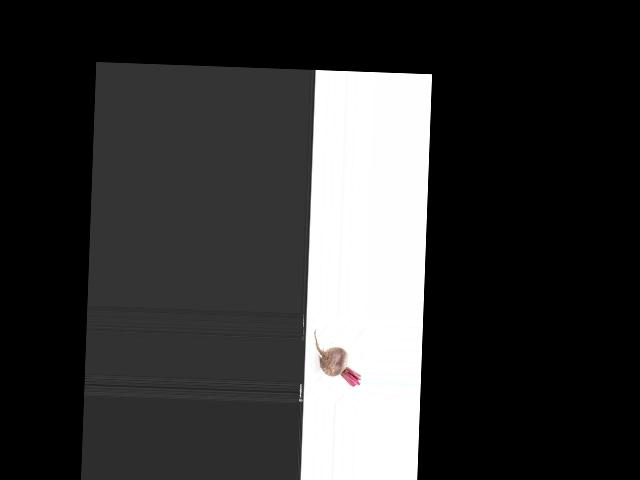beet: (312, 328, 362, 386)
